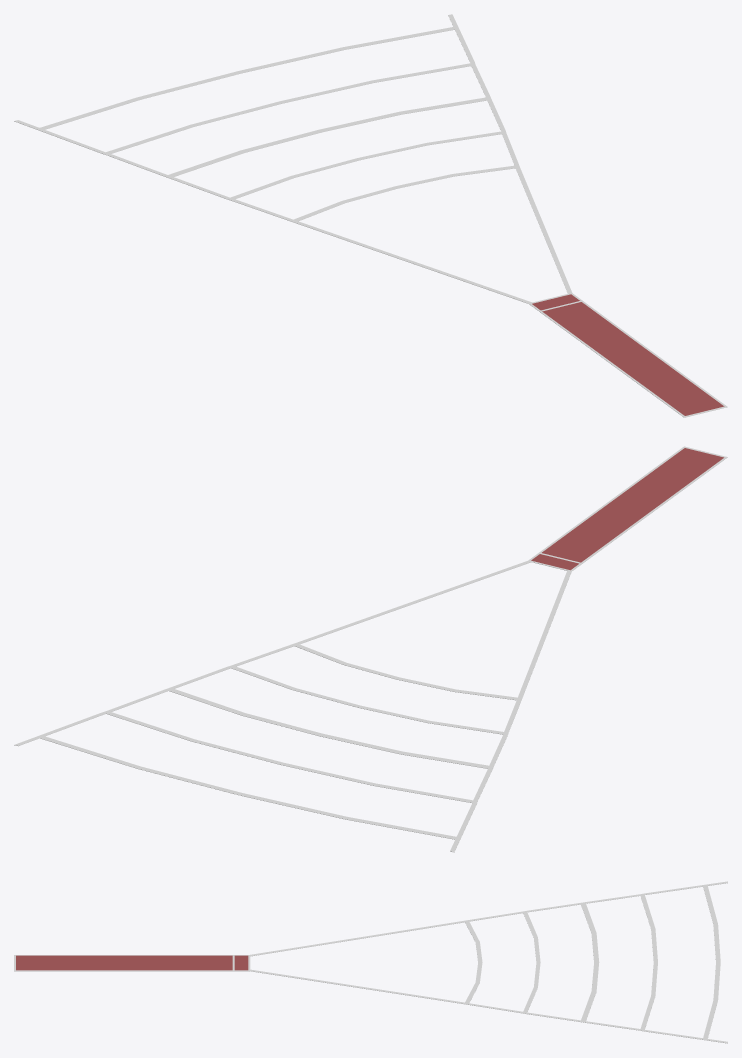
File: Javelin Track.fbx
3 renders of one model, top to bottom at view 1: azimuth 30°, elevation 25°; view 2: azimuth 150°, elevation 25°; view 3: azimuth 270°, elevation 25°, orthographic. The views are drawn at different scales.
Visible parts, largest first — view 1: Javelin Track; view 2: Javelin Track; view 3: Javelin Track.
Boxes of the visible parts, <box> form: Javelin Track: <box>14,14,727,417</box>; Javelin Track: <box>14,446,727,852</box>; Javelin Track: <box>14,881,727,1043</box>.
Size of the model in its own units: 20067 by 10 by 37374.
